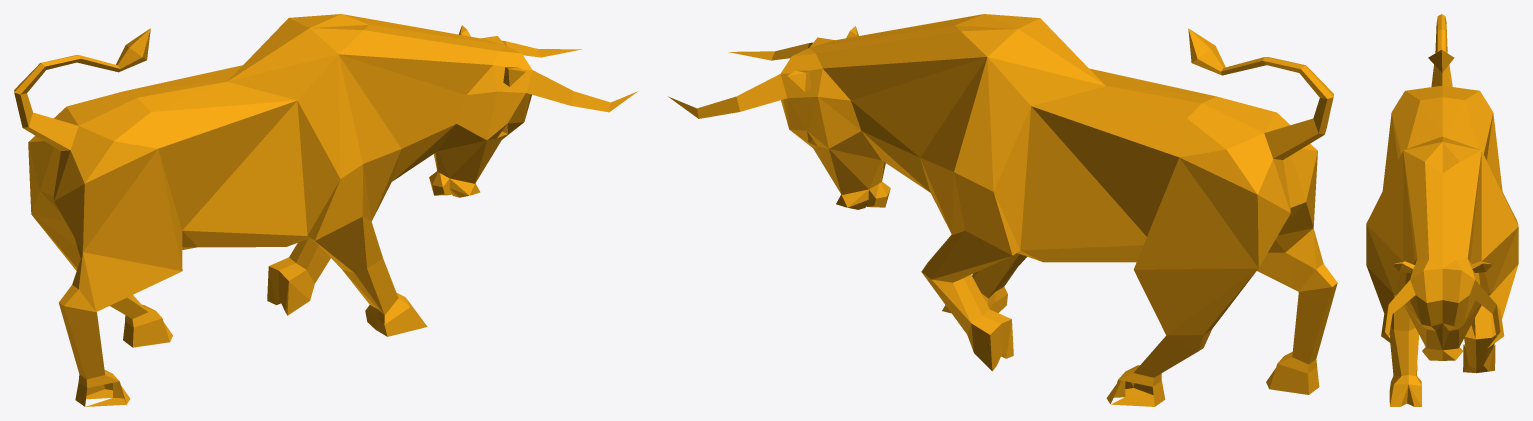
File: poligonBullGold.gltf
3 views of the same model, side by side, from view 1: azimuth 30°, elevation 25°; view 2: azimuth 150°, elevation 25°; view 3: azimuth 270°, elevation 25° (orthographic). The views are drawn at different scales.
Parts seen in each view (by area): view 1: poligonBullGold; view 2: poligonBullGold; view 3: poligonBullGold.
Part boxes in pixels (x1,y1,x2,y2): poligonBullGold: (14, 14, 637, 406); poligonBullGold: (668, 14, 1337, 406); poligonBullGold: (1366, 14, 1518, 406).
Size of the model in its own units: 8.39 by 4.5 by 2.35.
